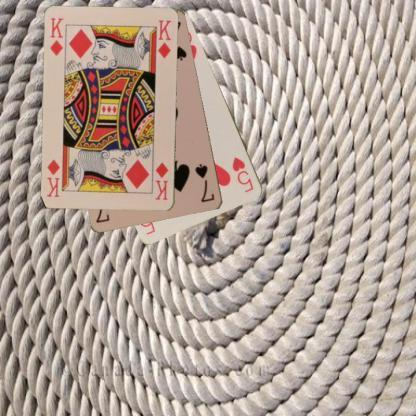5h: (230, 154, 254, 194)
7s: (192, 162, 216, 204)
Kd: (47, 15, 65, 58), (152, 160, 170, 202)
